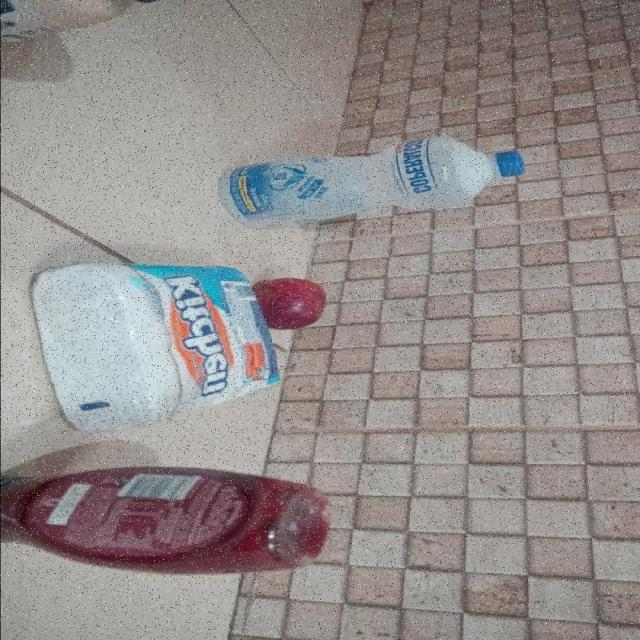AlcoholBottle: (218, 134, 526, 230)
Apple: (252, 276, 326, 332)
Ketchup: (0, 464, 333, 574)
Mayonnaise: (0, 0, 175, 60)
Napkin: (28, 262, 282, 433)
